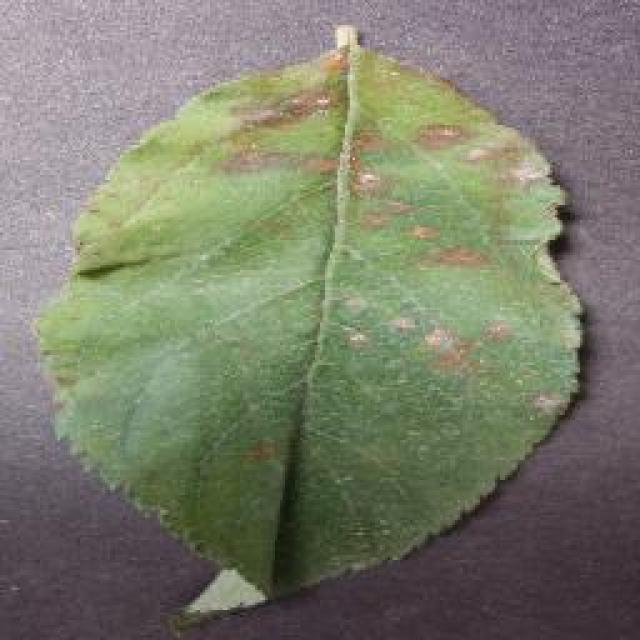apple rust disease: (33, 22, 585, 628)
